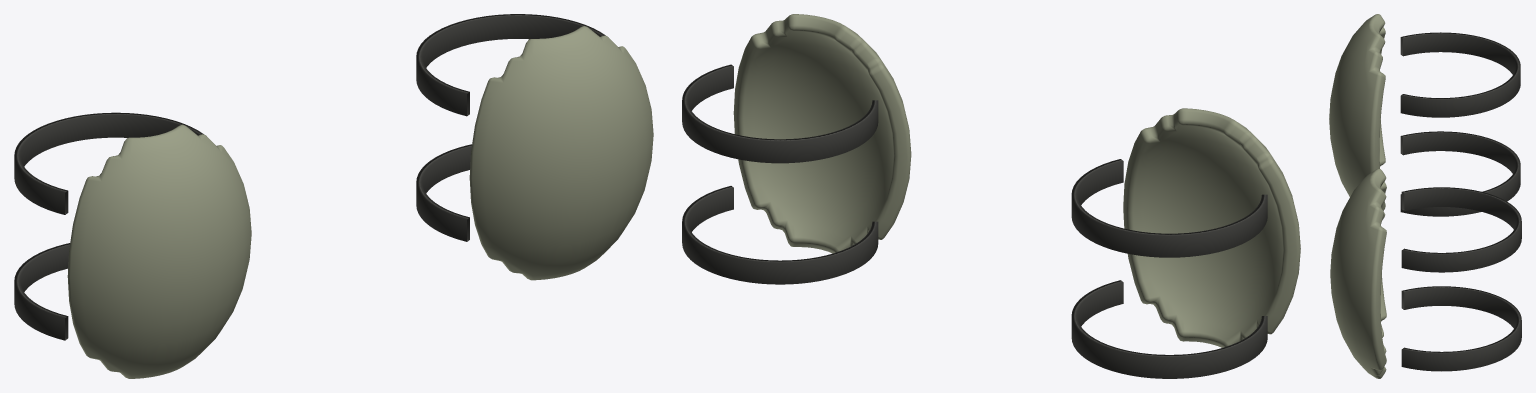
File: kneepads_CT.glb
The picture shows the model from 3 angles, left to right: view 1: azimuth 30°, elevation 25°; view 2: azimuth 150°, elevation 25°; view 3: azimuth 270°, elevation 25°; orthographic projection. The views are drawn at different scales.
Visible parts, largest first — view 1: pad@Leg.R, pad@Leg.L; view 2: pad@Leg.R, pad@Leg.L; view 3: pad@Leg.L, pad@Leg.R.
Part boxes in pixels (box(x1,y1,x2,y2)): pad@Leg.R: box(14, 112, 251, 378); pad@Leg.L: box(416, 14, 653, 280); pad@Leg.R: box(1071, 108, 1300, 378); pad@Leg.L: box(682, 14, 911, 284); pad@Leg.L: box(1330, 169, 1521, 378); pad@Leg.R: box(1329, 14, 1520, 219).
Size of the model in its own units: 0.4392 by 0.1727 by 0.1589.
